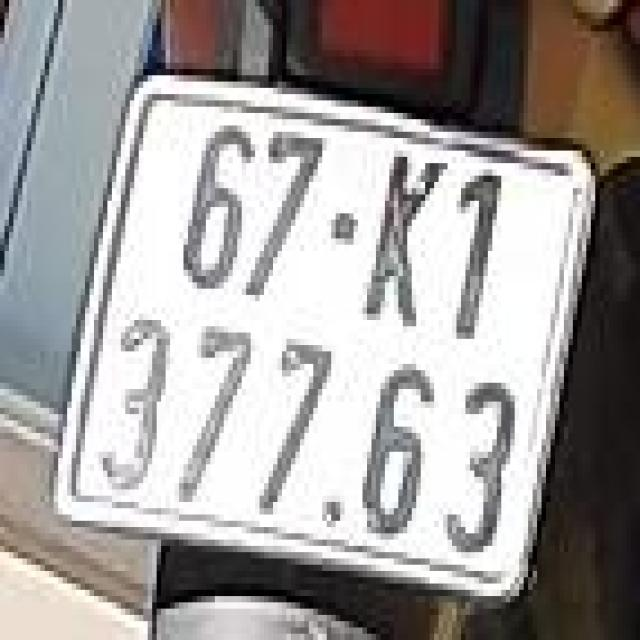1: (450, 164, 508, 352)
3: (99, 301, 170, 515), (443, 370, 519, 565)
6: (354, 351, 438, 565), (175, 116, 255, 298)
7: (244, 116, 329, 311), (174, 317, 250, 530), (255, 326, 331, 534)
K: (360, 144, 450, 345)
